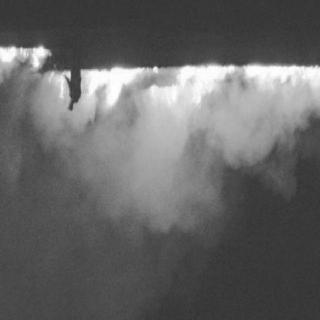Smoke: (76, 100, 306, 241)
